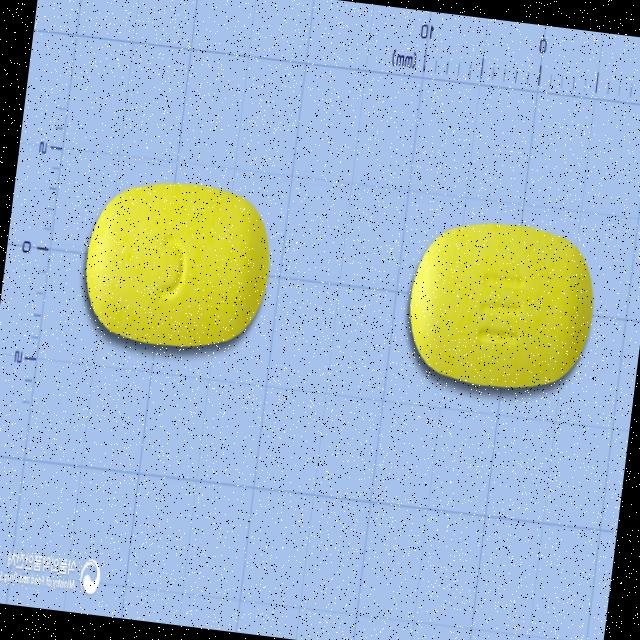Clararoxin: (396, 205, 604, 404), (70, 169, 280, 362)
